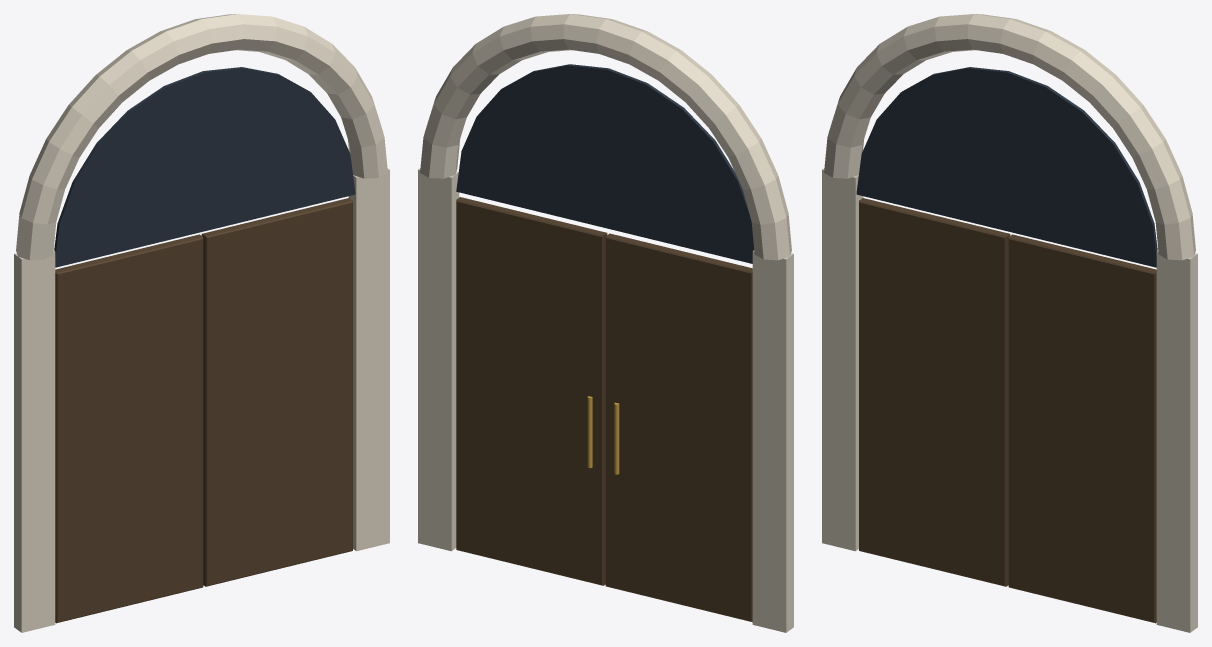
Rendered from entrance.glb.
3 views of the same model, side by side, from view 1: azimuth 30°, elevation 25°; view 2: azimuth 150°, elevation 25°; view 3: azimuth 330°, elevation 25° (orthographic).
Parts seen in each view (by area): view 1: wood4, wood3, glass7, stone2, stone0, stone1; view 2: wood4, wood3, glass7, stone2, stone0, stone1; view 3: wood3, wood4, glass7, stone2, stone1, stone0.
Boxes of the visible parts, <box> form: wood4: <box>201,198,352,586</box>; wood3: <box>55,234,203,623</box>; glass7: <box>54,67,355,267</box>; stone2: <box>16,14,387,260</box>; stone0: <box>14,250,55,632</box>; stone1: <box>348,168,389,551</box>; wood4: <box>456,197,607,585</box>; wood3: <box>605,233,752,622</box>; glass7: <box>456,64,754,263</box>; stone2: <box>420,14,791,260</box>; stone0: <box>752,250,793,632</box>; stone1: <box>418,168,459,551</box>; wood3: <box>859,198,1010,586</box>; wood4: <box>1008,234,1156,623</box>; glass7: <box>856,67,1157,267</box>; stone2: <box>824,14,1195,260</box>; stone1: <box>1156,250,1197,632</box>; stone0: <box>822,168,863,551</box>.
Size of the model in its own units: 3.3 by 4.85 by 0.3.
